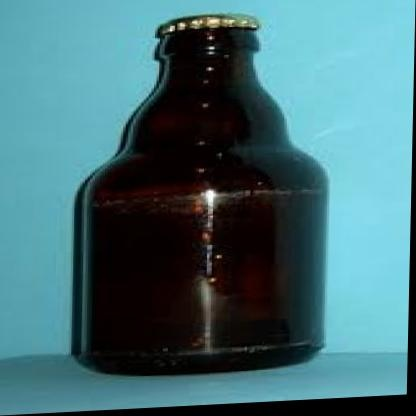trash: (72, 15, 326, 373)
